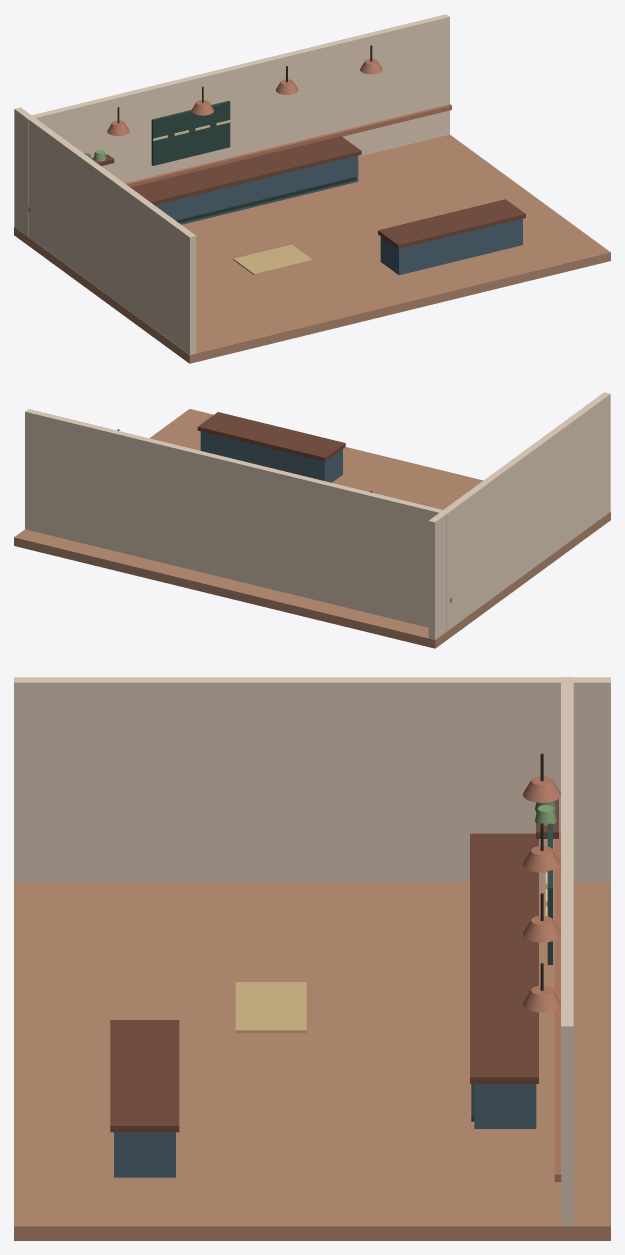
The model's file is cafe-shell-stage-14.glb.
3 renders of one model, top to bottom at view 1: azimuth 30°, elevation 25°; view 2: azimuth 150°, elevation 25°; view 3: azimuth 270°, elevation 25°, orthographic. The views are drawn at different scales.
Visible parts, largest first — view 1: ExpandedFloor, BackWall, SideWall, StraightWalnutTop, StraightMainCounter, ServeCounter, MenuBoard, ServeWalnutTop, WallTrim, CafeRug, BackCounterKickboard; view 2: BackWall, SideWall, ExpandedFloor, ServeWalnutTop, ServeCounter; view 3: ExpandedFloor, SideWall, StraightWalnutTop, ServeWalnutTop, BackWall, CafeRug, PendantShade (×4), ServeCounter, StraightMainCounter, WallTrim.
Part boxes in pixels (<box>): ExpandedFloor: <box>14,134,610,363</box>; BackWall: <box>25,14,449,236</box>; SideWall: <box>14,107,196,354</box>; StraightWalnutTop: <box>130,136,361,205</box>; StraightMainCounter: <box>155,155,358,224</box>; ServeCounter: <box>380,218,522,275</box>; MenuBoard: <box>151,100,230,165</box>; ServeWalnutTop: <box>378,199,525,248</box>; WallTrim: <box>28,104,451,212</box>; CafeRug: <box>233,244,312,275</box>; BackCounterKickboard: <box>175,176,356,223</box>; BackWall: <box>25,409,449,631</box>; SideWall: <box>428,392,610,639</box>; ExpandedFloor: <box>14,409,610,648</box>; ServeWalnutTop: <box>197,412,345,461</box>; ServeCounter: <box>200,431,342,482</box>; ExpandedFloor: <box>14,882,610,1240</box>; SideWall: <box>14,677,610,882</box>; StraightWalnutTop: <box>470,833,538,1083</box>; ServeWalnutTop: <box>110,1020,179,1132</box>; BackWall: <box>561,677,573,1226</box>; CafeRug: <box>235,982,306,1032</box>; PendantShade (×4): <box>523,776,560,1012</box>; ServeCounter: <box>114,1132,175,1177</box>; StraightMainCounter: <box>474,1084,536,1128</box>; WallTrim: <box>554,831,561,1181</box>.
Bounding box in the file's own units: 18 × 5.16 × 13.
